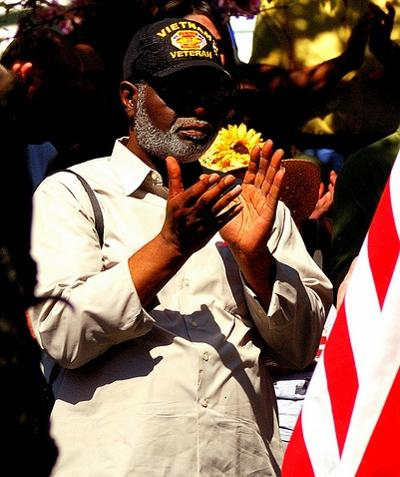person: (28, 18, 333, 477)
